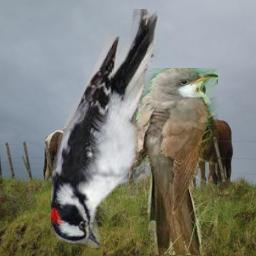Cuckoo: (133, 68, 218, 255)
Woodpecker: (51, 9, 160, 248)
